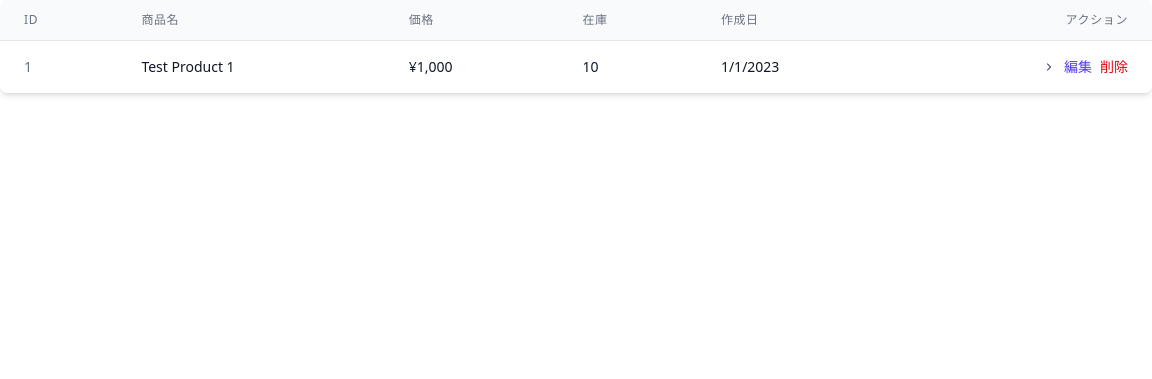
Test case: ProductList Component › should toggle product details when expand button is clicked
Expected: the text "商品詳細" is not shown
// The expand button is the first button in each row
What coordinates should you click on to do the following:
click the 1st button
I would click on:
 (1049, 67)
Its box is 1042,60 -> 1056,74.
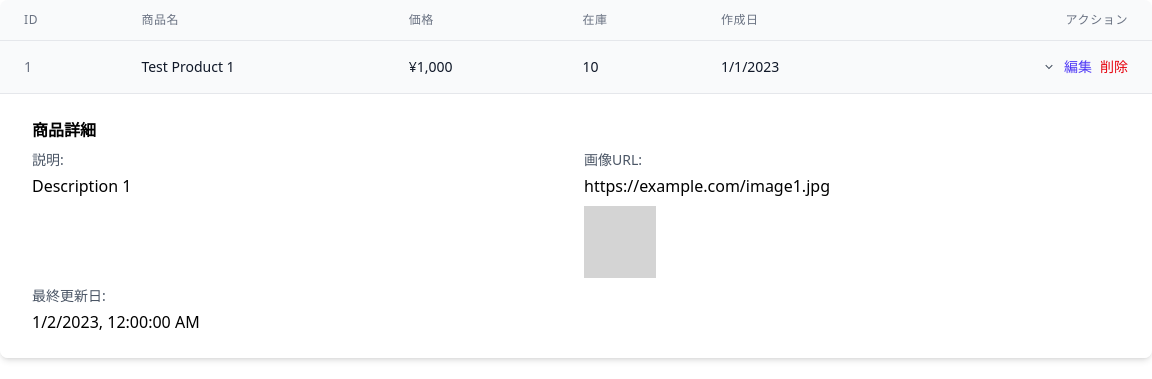
Expected: the heading "商品詳細" is shown, 32,119 -> 96,141
Expected: the text "説明:" is shown, 32,150 -> 64,169
Expected: the text "Description 1" is shown, 32,175 -> 131,197
// Click again to collapse
What coordinates should you click on to do the following:
click the 1st button
I would click on:
 (1049, 67)
Its box is 1042,60 -> 1056,74.
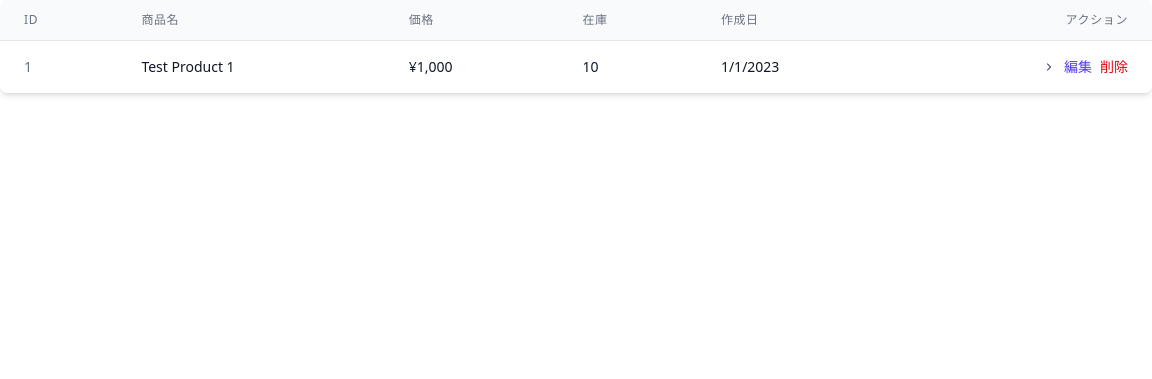
Expected: the heading "商品詳細" is gone
